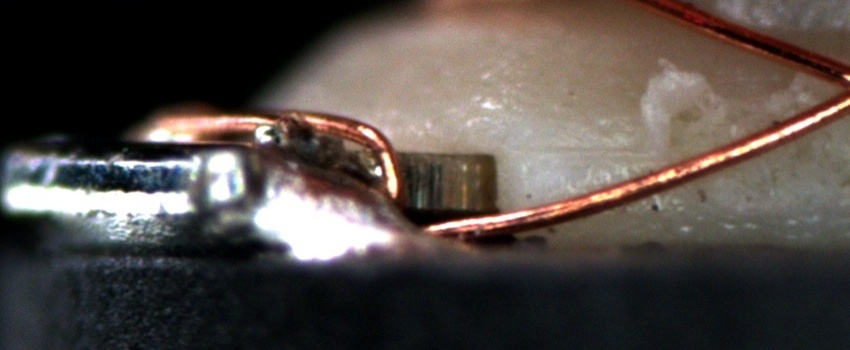CL: (807, 53, 849, 121)
DL: (525, 119, 678, 183)
TE: (150, 100, 411, 210)
